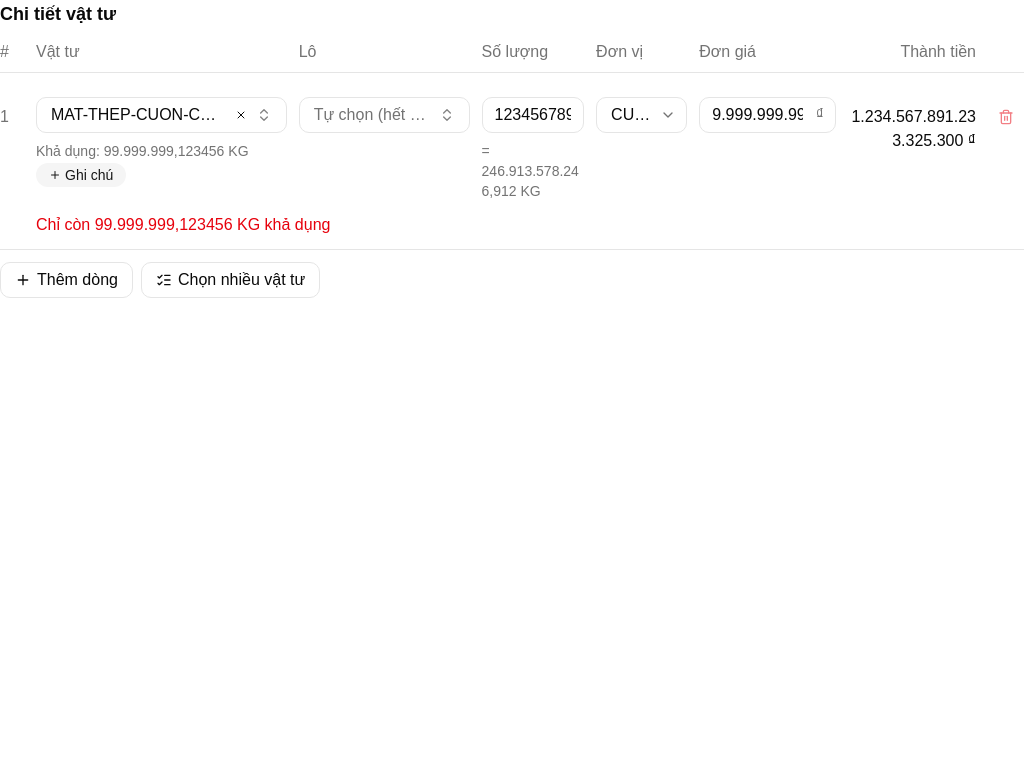
Test: ExportFormItemsField — worst case › danh sách lô: lô không hạn + mã phiếu nhập rất dài vẫn đủ chữ
This screenshot has width=1024, height=768.
Click the dropdown named "Lô" at (384, 115), box [299,97,470,133]
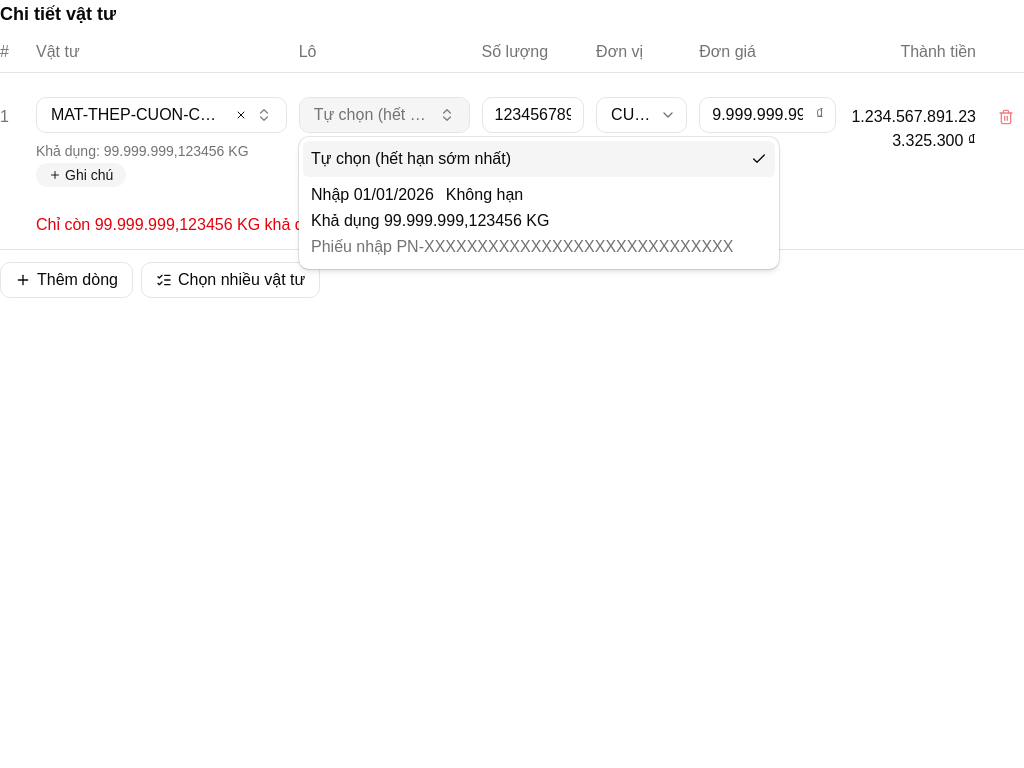
Expected: the option that starts with "Nhập 01/01/2026" shows "Không hạn", [303,177,775,265]
